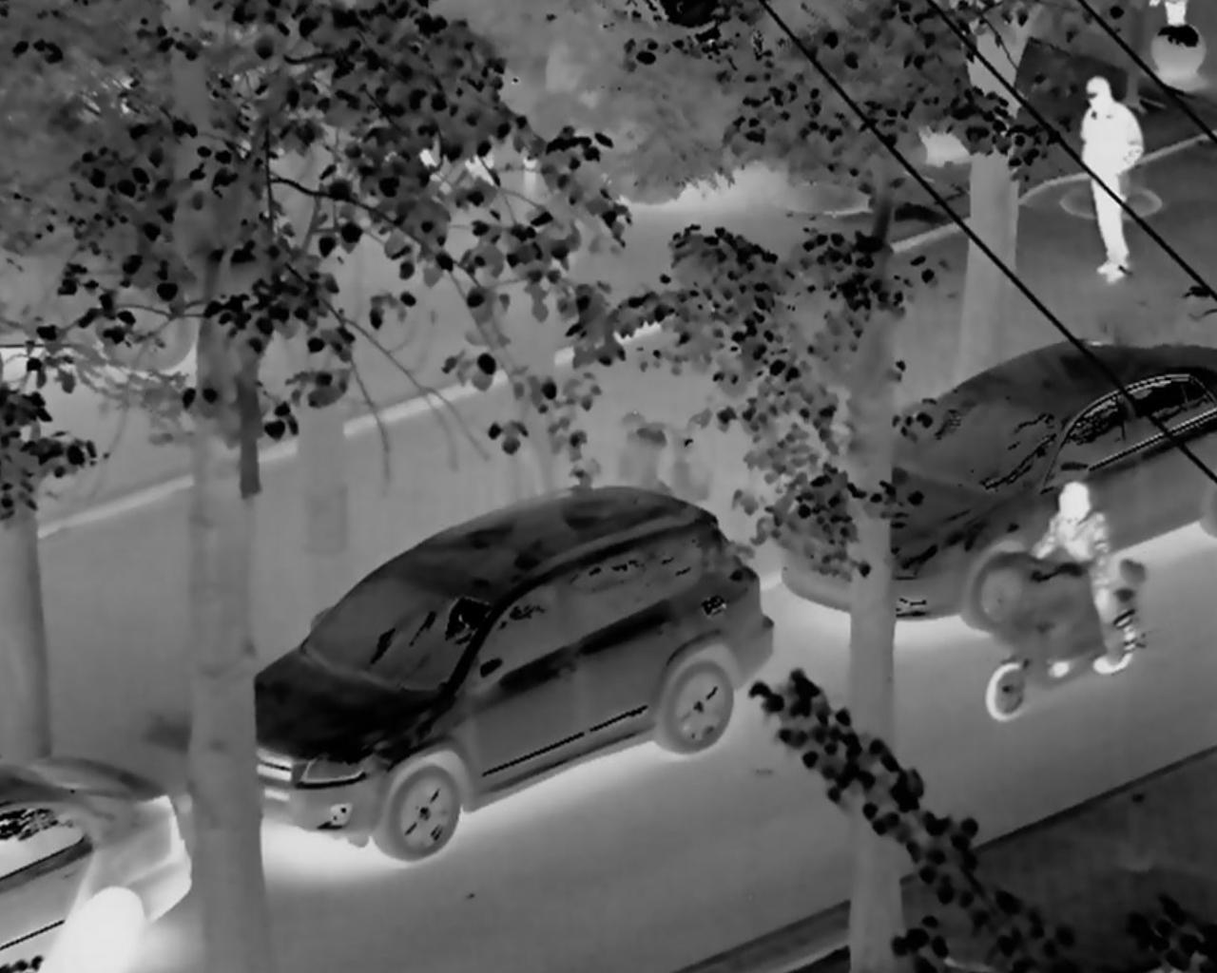person: (1019, 471, 1108, 675), (1062, 75, 1143, 283)
